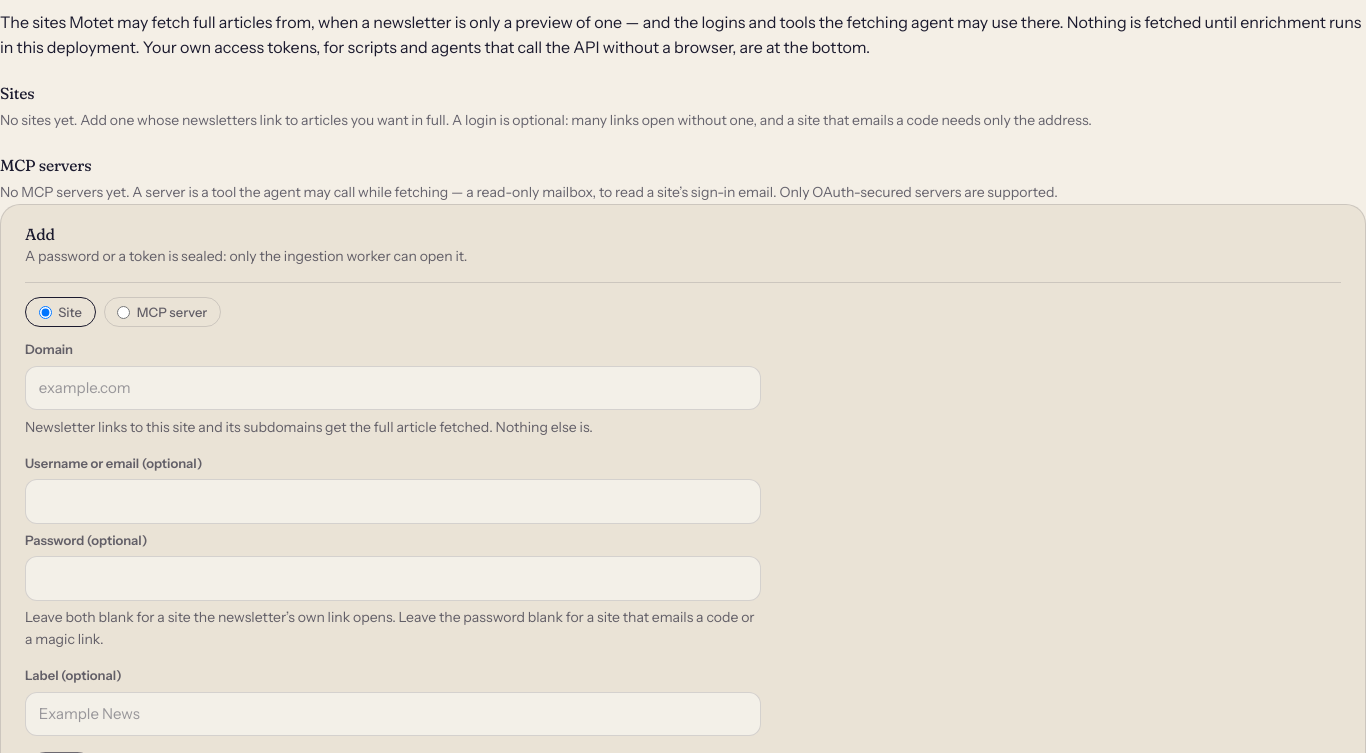
Test: the Credentials screen › adds a site from its domain alone, normalized
The width and height of the screenshot is (1366, 753).
In the field labelled "Domain": (393, 388) [25,366,761,410], type "https://www.Example.com/newsletters"
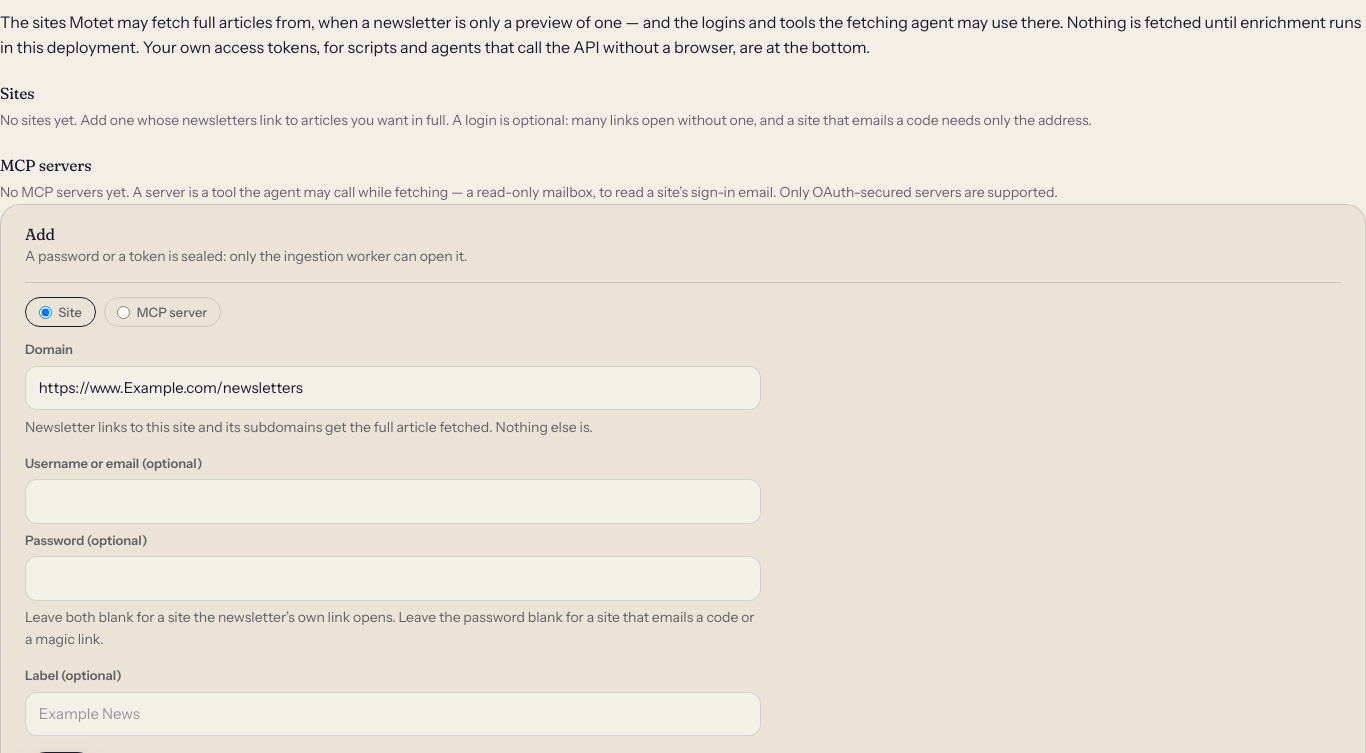
Leave the field labelled "Domain", box [25,366,761,410]
(page scrolled)
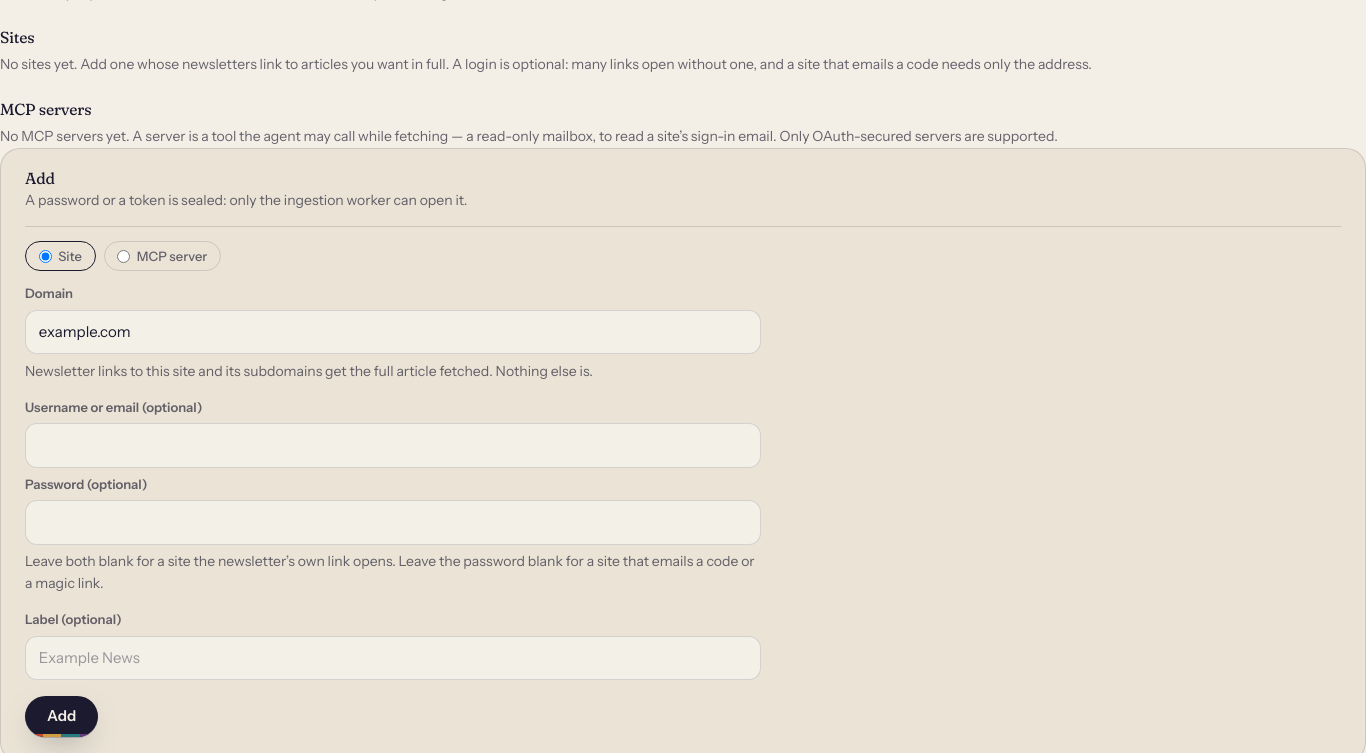
Now the field labelled "Domain" holds "example.com", box [25,310,761,354]
Click the button "Add": (62, 716) [25,696,98,737]
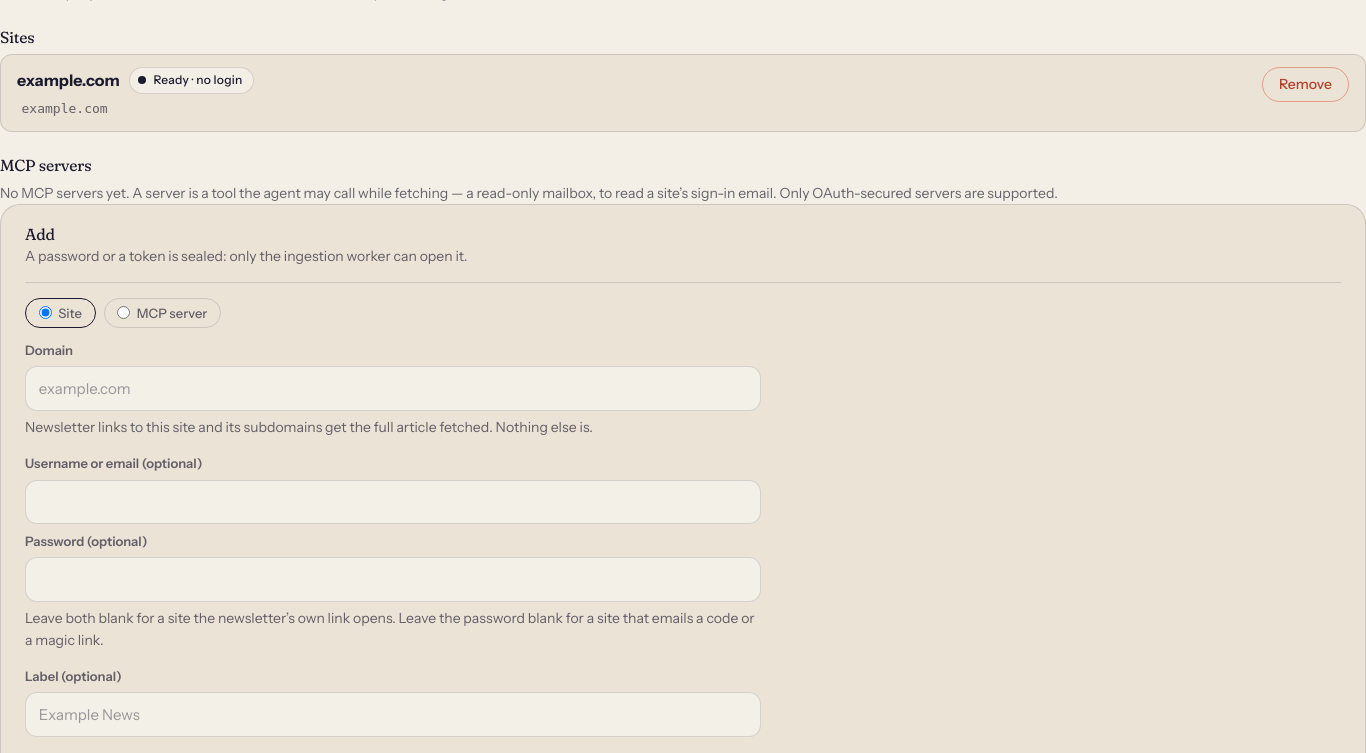
Now the list named "Sites" is shown, box [0,54,1365,132]
Now the list item shows "Ready · no login", box [154,72,242,87]
